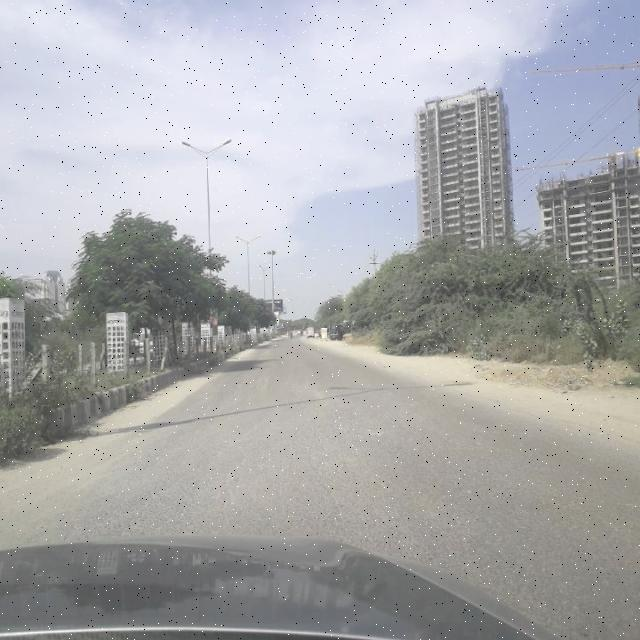D20: (57, 408, 431, 541)
